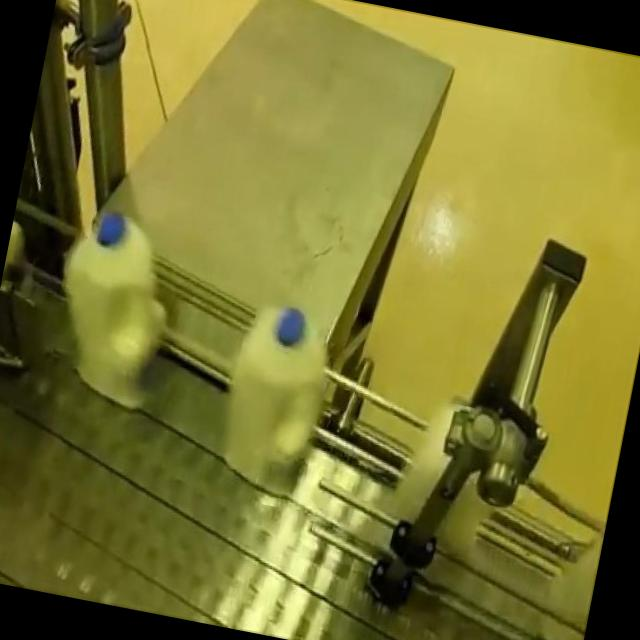milk: (39, 192, 208, 407), (204, 284, 350, 502)
